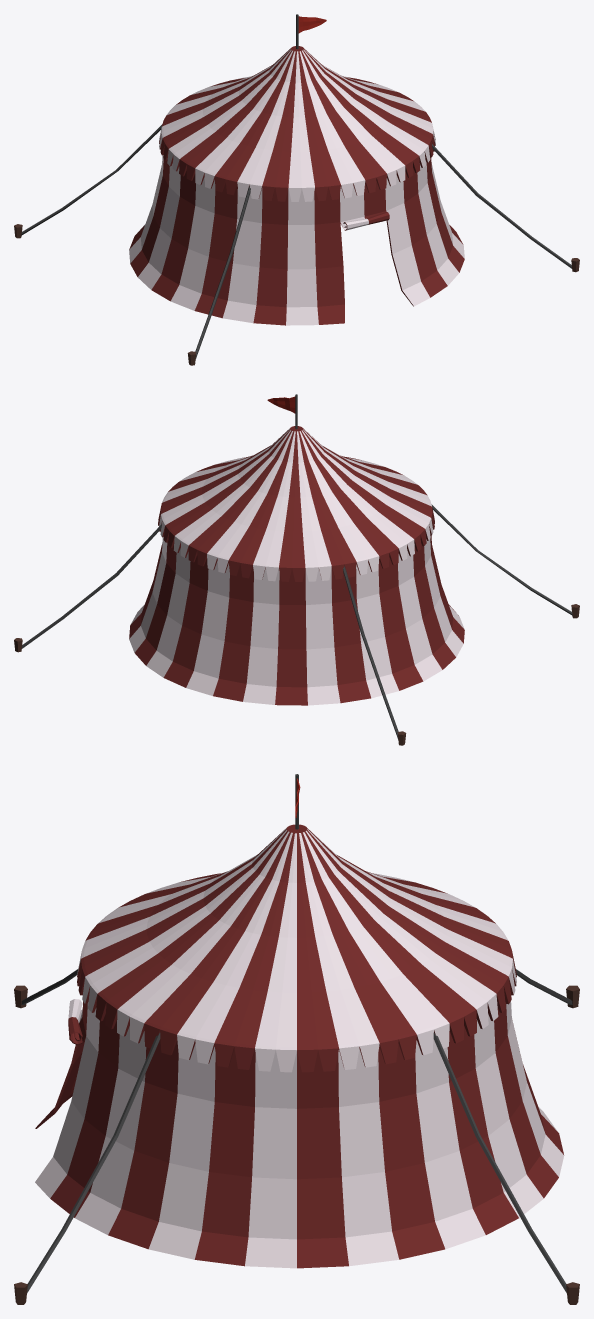
Rendered from roundTent.fbx.
The picture shows the model from 3 angles, top to bottom: view 1: azimuth 30°, elevation 25°; view 2: azimuth 150°, elevation 25°; view 3: azimuth 270°, elevation 25°; orthographic projection. The views are drawn at different scales.
Visible parts, largest first — view 1: round_tent; view 2: round_tent; view 3: round_tent.
Boxes of the visible parts, left/top/right/bottom form: round_tent: left=14, top=14, right=579, bottom=365; round_tent: left=14, top=394, right=579, bottom=745; round_tent: left=14, top=774, right=579, bottom=1304.
Bounding box in the file's own units: 691 × 406 × 547.
